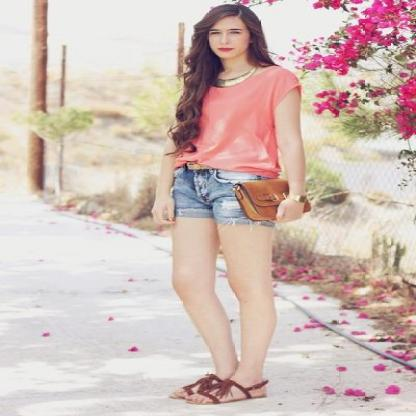bag: (231, 181, 310, 227)
shirt: (170, 65, 300, 185)
shoe: (182, 374, 255, 404)
shorts: (169, 163, 268, 400)
